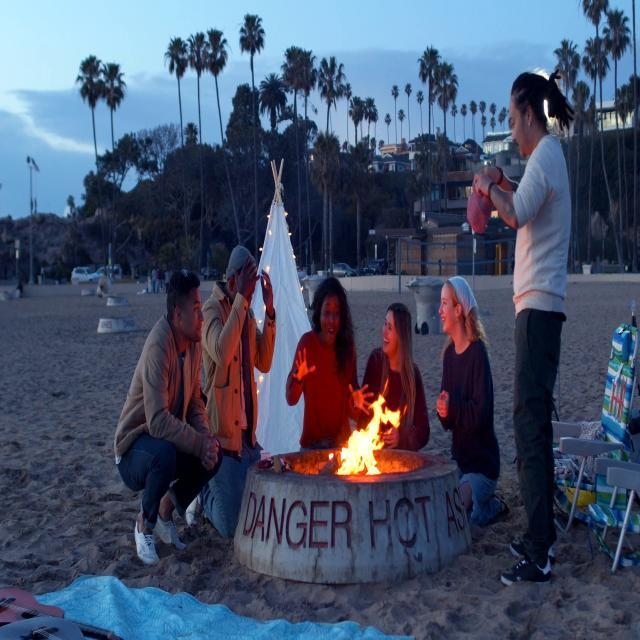Fire: (337, 376, 402, 476)
